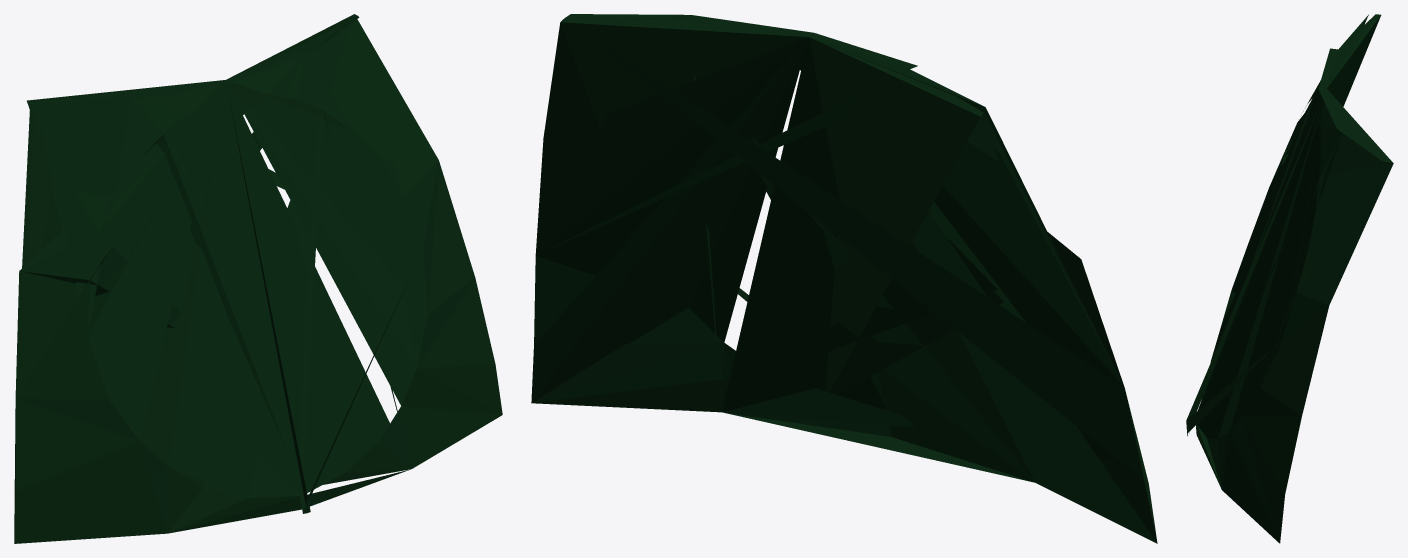
The model's file is S.S._Dolphin_part.011.obj.
3 renders of one model, left to right at view 1: azimuth 30°, elevation 25°; view 2: azimuth 150°, elevation 25°; view 3: azimuth 270°, elevation 25°, orthographic. The views are drawn at different scales.
Parts seen in each view (by area): view 1: S.S._Dolphin_part.011; view 2: S.S._Dolphin_part.011; view 3: S.S._Dolphin_part.011.
Part boxes in pixels (box(x1,y1,x2,y2)): S.S._Dolphin_part.011: box(14, 14, 502, 543); S.S._Dolphin_part.011: box(531, 14, 1157, 543); S.S._Dolphin_part.011: box(1186, 14, 1393, 543).
Size of the model in its own units: 3.76 by 2.73 by 1.49.
